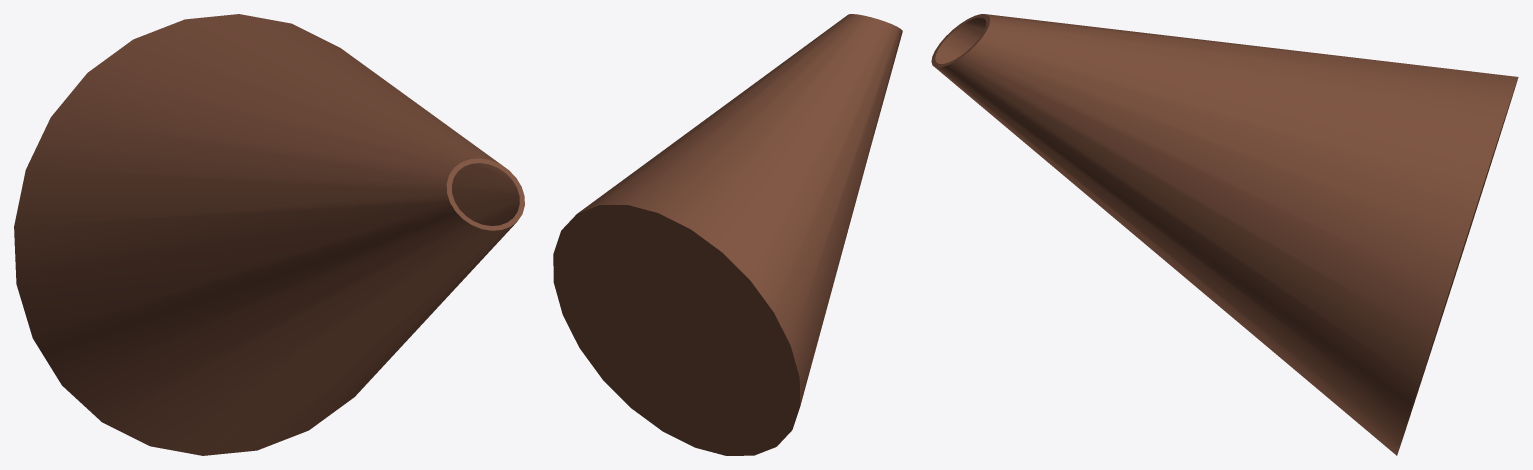
The model's file is original-3.obj.
The picture shows the model from 3 angles, left to right: view 1: azimuth 30°, elevation 25°; view 2: azimuth 150°, elevation 25°; view 3: azimuth 270°, elevation 25°; orthographic projection. The views are drawn at different scales.
Visible parts, largest first — view 1: Group3/mesh3/mesh3-geometry#mesh3-geometry; view 2: Group3/mesh3/mesh3-geometry#mesh3-geometry; view 3: Group3/mesh3/mesh3-geometry#mesh3-geometry.
Part boxes in pixels (box(x1,y1,x2,y2)): Group3/mesh3/mesh3-geometry#mesh3-geometry: box(14, 14, 524, 455); Group3/mesh3/mesh3-geometry#mesh3-geometry: box(553, 14, 902, 455); Group3/mesh3/mesh3-geometry#mesh3-geometry: box(931, 14, 1518, 455).
Size of the model in its own units: 0.3435 by 0.3967 by 0.507.
